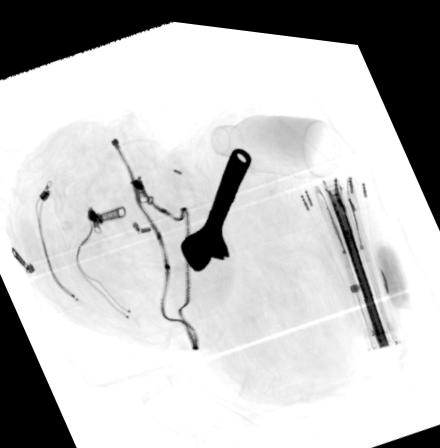Wrench: (177, 140, 254, 267)
